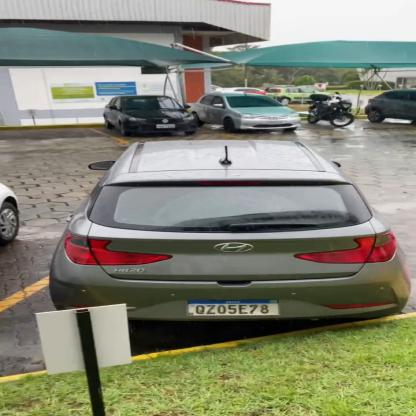Plate: (186, 296, 288, 318)
